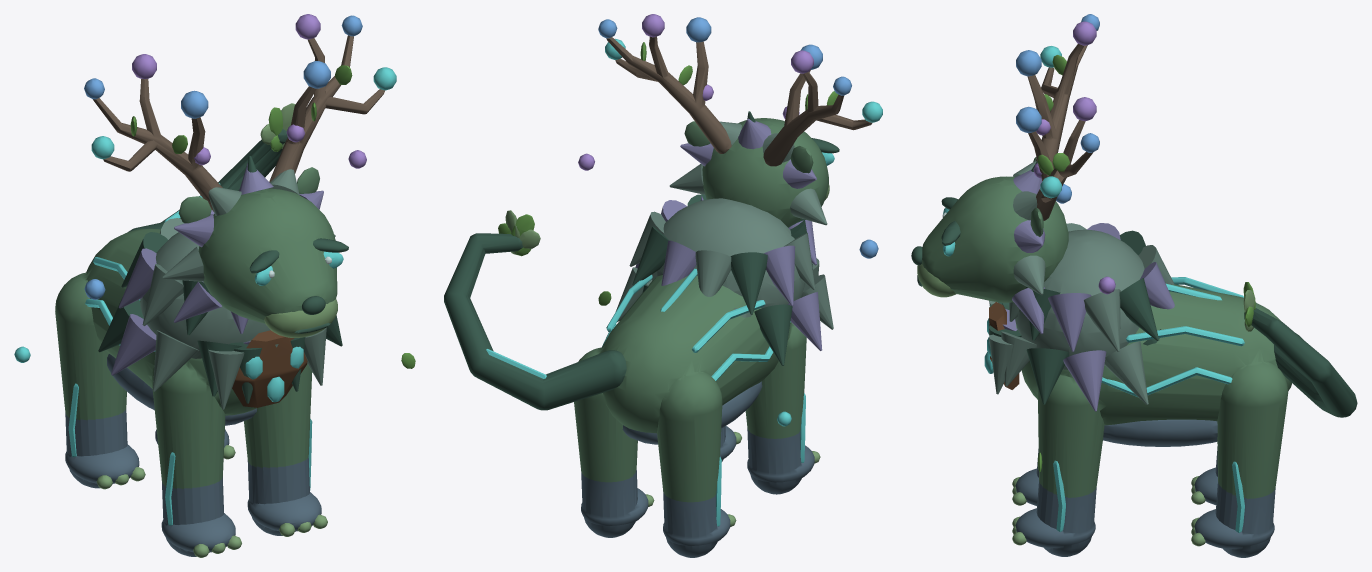
File: briarvaunt.glb
3 views of the same model, side by side, from view 1: azimuth 30°, elevation 25°; view 2: azimuth 150°, elevation 25°; view 3: azimuth 270°, elevation 25° (orthographic). The views are drawn at different scales.
Visible parts, largest first — view 1: creature; view 2: creature; view 3: creature.
Part boxes in pixels (<box>): creature: <box>14,14,415,557</box>; creature: <box>444,14,882,557</box>; creature: <box>911,14,1357,557</box>.
Size of the model in its own units: 0.7072 by 1 by 0.8534.
